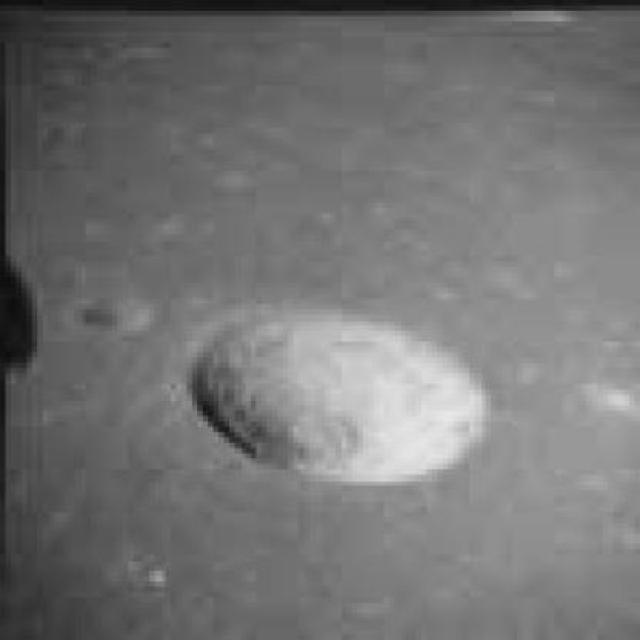crater: (186, 313, 492, 482)
